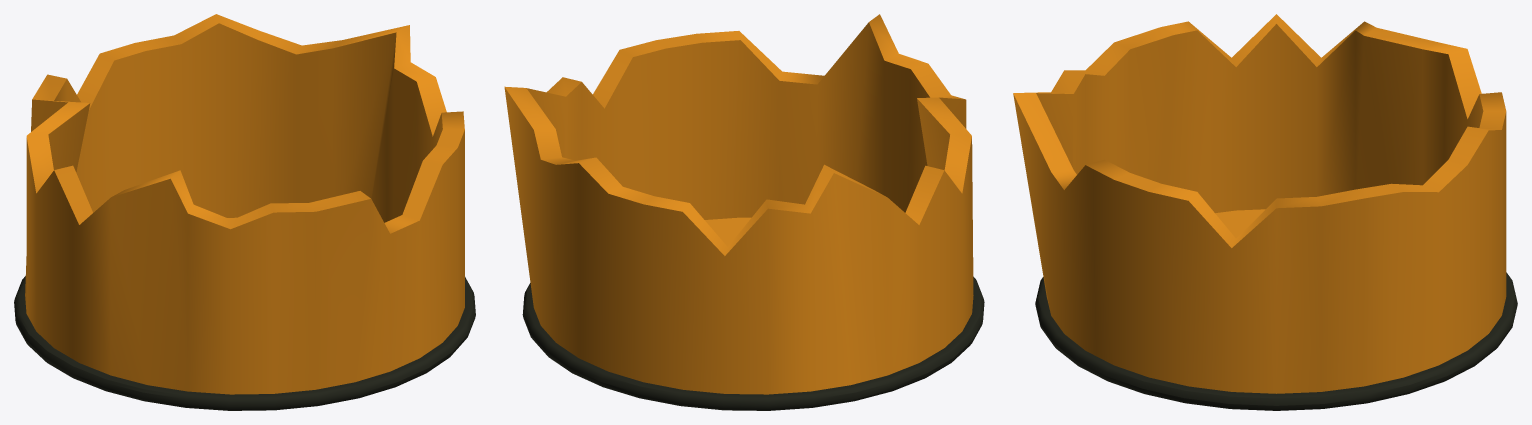
File: Barrel_Exp.fbx
3 renders of one model, left to right at view 1: azimuth 30°, elevation 25°; view 2: azimuth 150°, elevation 25°; view 3: azimuth 270°, elevation 25°, orthographic. The views are drawn at different scales.
Parts seen in each view (by area): view 1: Cylinder; view 2: Cylinder; view 3: Cylinder.
Boxes of the visible parts, box(x1,y1,x2,y2) form: Cylinder: box(14, 14, 475, 410); Cylinder: box(504, 14, 984, 410); Cylinder: box(1013, 14, 1517, 410).
Size of the model in its own units: 192 by 94.24 by 198.
